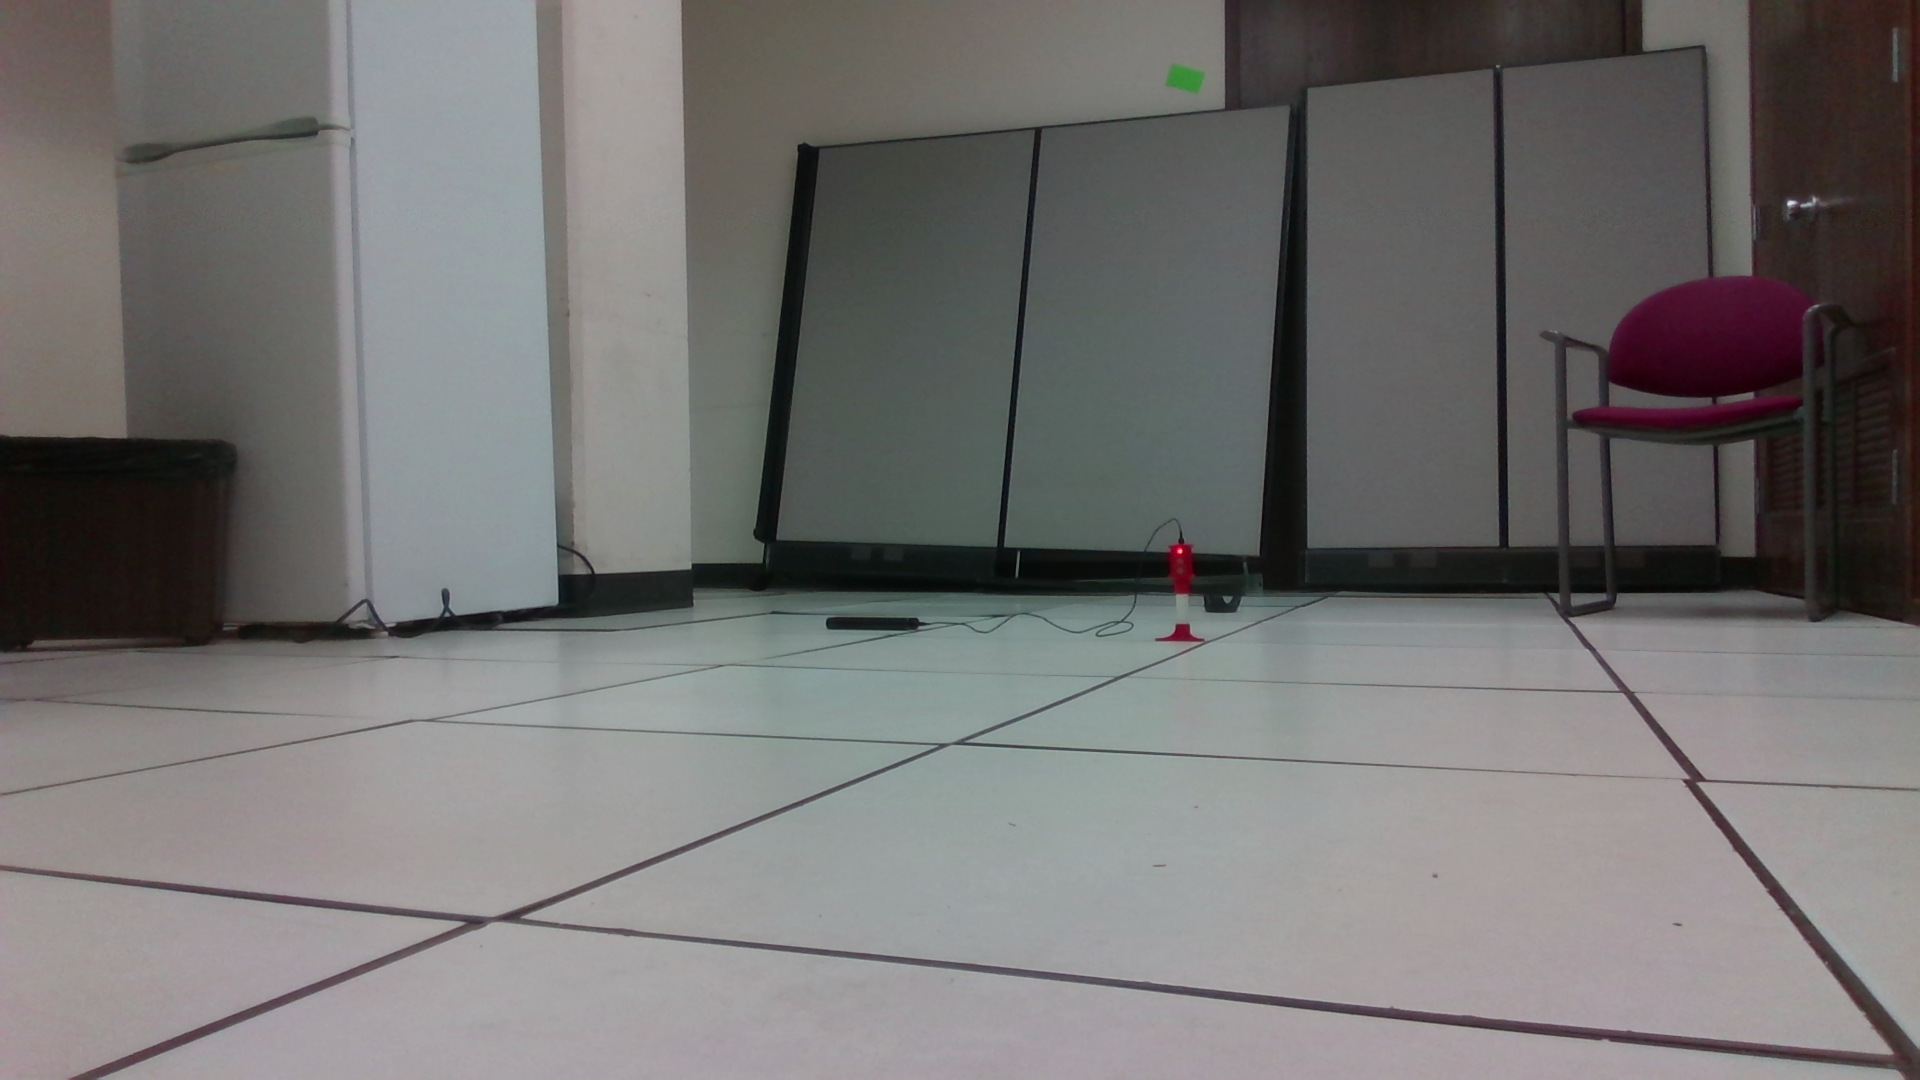stoplight: (1164, 543, 1196, 595)
